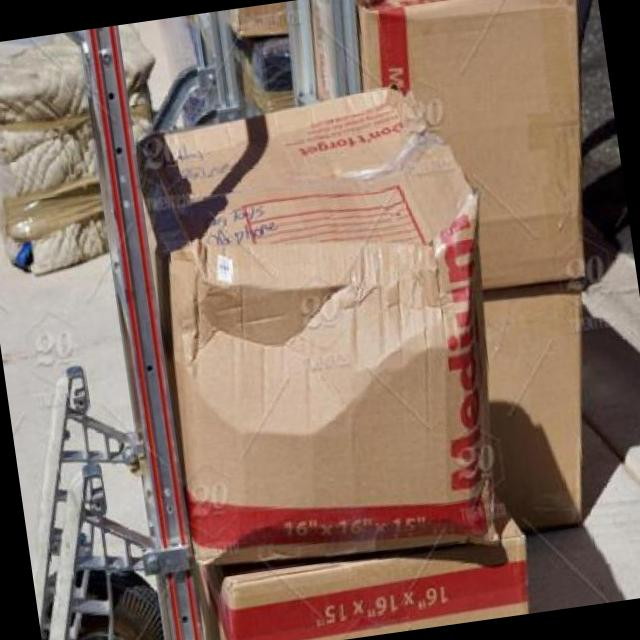box: (0, 171, 530, 640)
